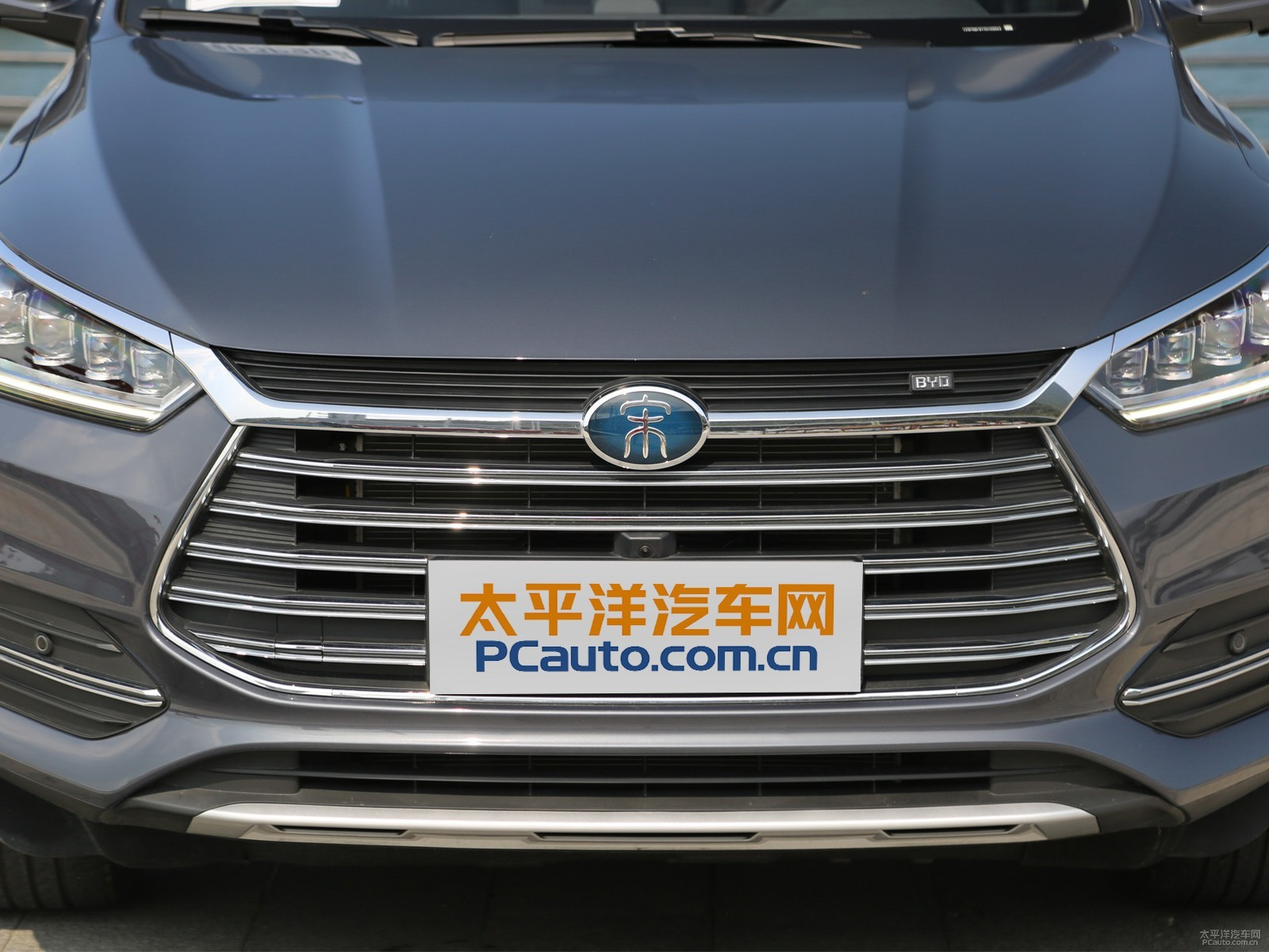BYD Song: (585, 386, 707, 470)
